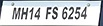character: (11, 7, 21, 20), (20, 7, 28, 20), (33, 7, 41, 20), (51, 6, 58, 19), (61, 6, 68, 19), (67, 6, 74, 19), (73, 6, 80, 19), (80, 6, 87, 19), (45, 6, 51, 19), (28, 7, 34, 19)
